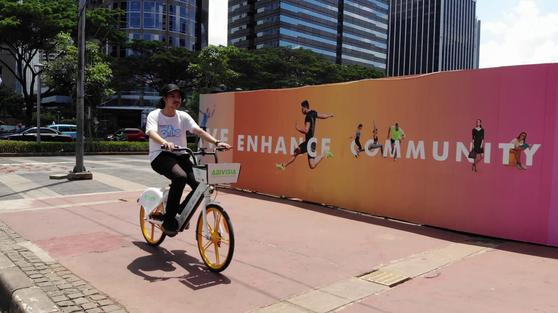bike: (127, 135, 245, 283)
